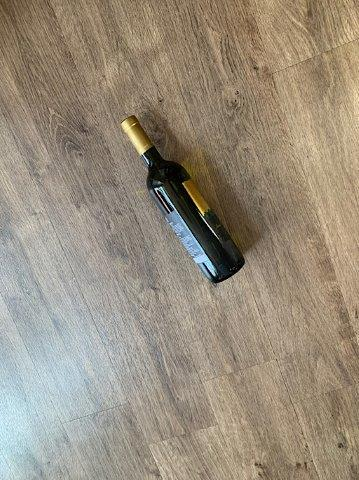botolkaca: (120, 116, 245, 285)
